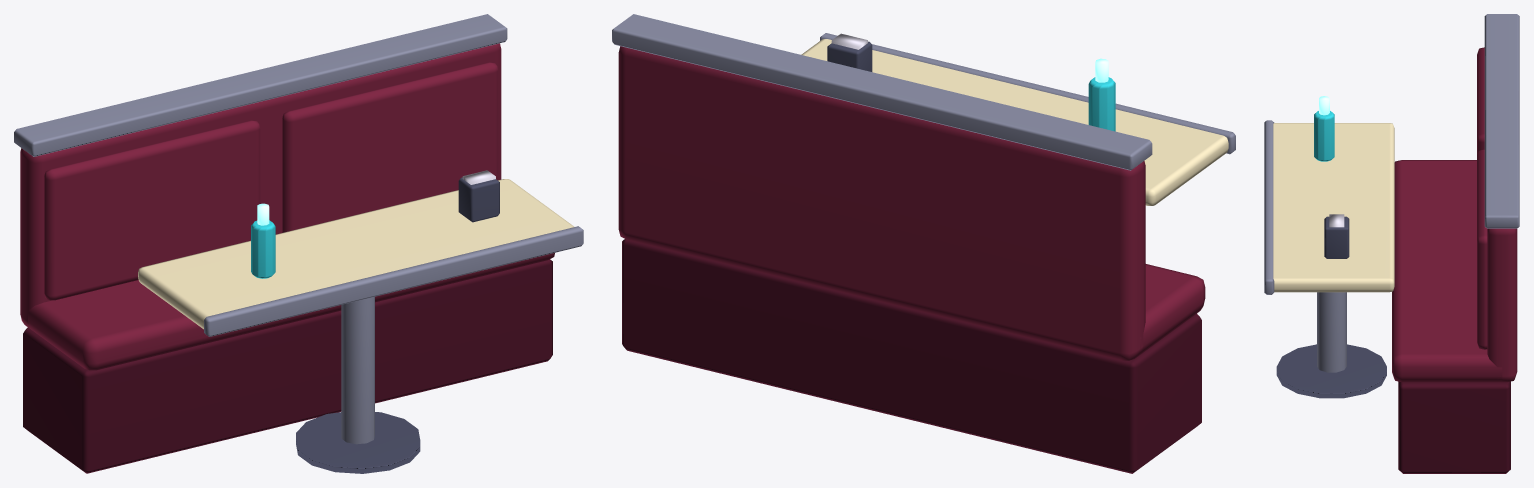
The model's file is booth.glb.
The picture shows the model from 3 angles, left to right: view 1: azimuth 30°, elevation 25°; view 2: azimuth 150°, elevation 25°; view 3: azimuth 270°, elevation 25°; orthographic projection. The views are drawn at different scales.
Visible parts, largest first — view 1: Booth.001; view 2: Booth.001; view 3: Booth.001.
Boxes of the visible parts, x1,y1,x2,y2 form: Booth.001: [14, 14, 583, 473]; Booth.001: [612, 14, 1235, 473]; Booth.001: [1264, 14, 1519, 473].
Size of the model in its own units: 1.92 by 1.15 by 1.02.
